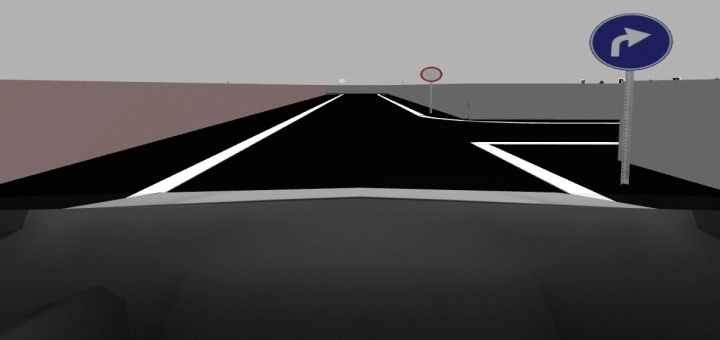girilmez: (420, 66, 443, 82)
saga_don: (588, 11, 677, 77)
